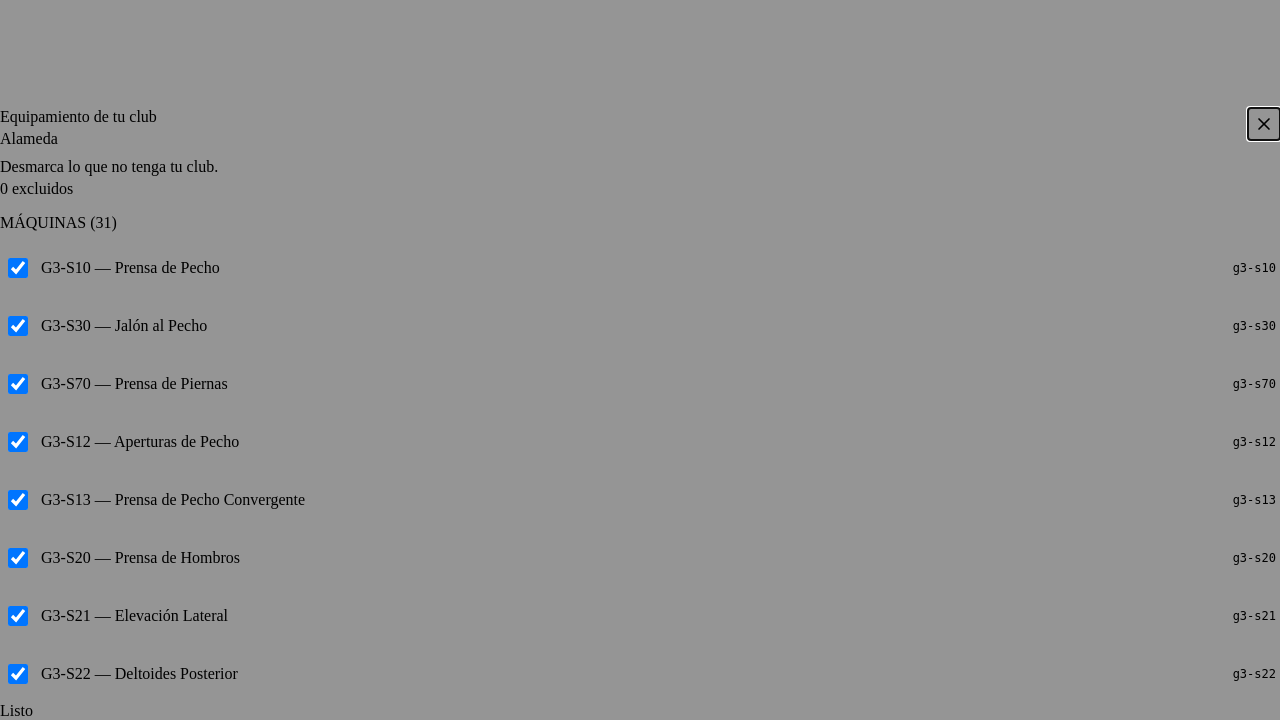
it: write failure never blocks the flow (R7.3, ux-design §2 error row) › shows a non-blocking inline alert rather than a modal error
Click the checkbox labelled "G3-S10 — Prensa de Pecho g3-s10" at (18, 268), box [8,258,28,278]
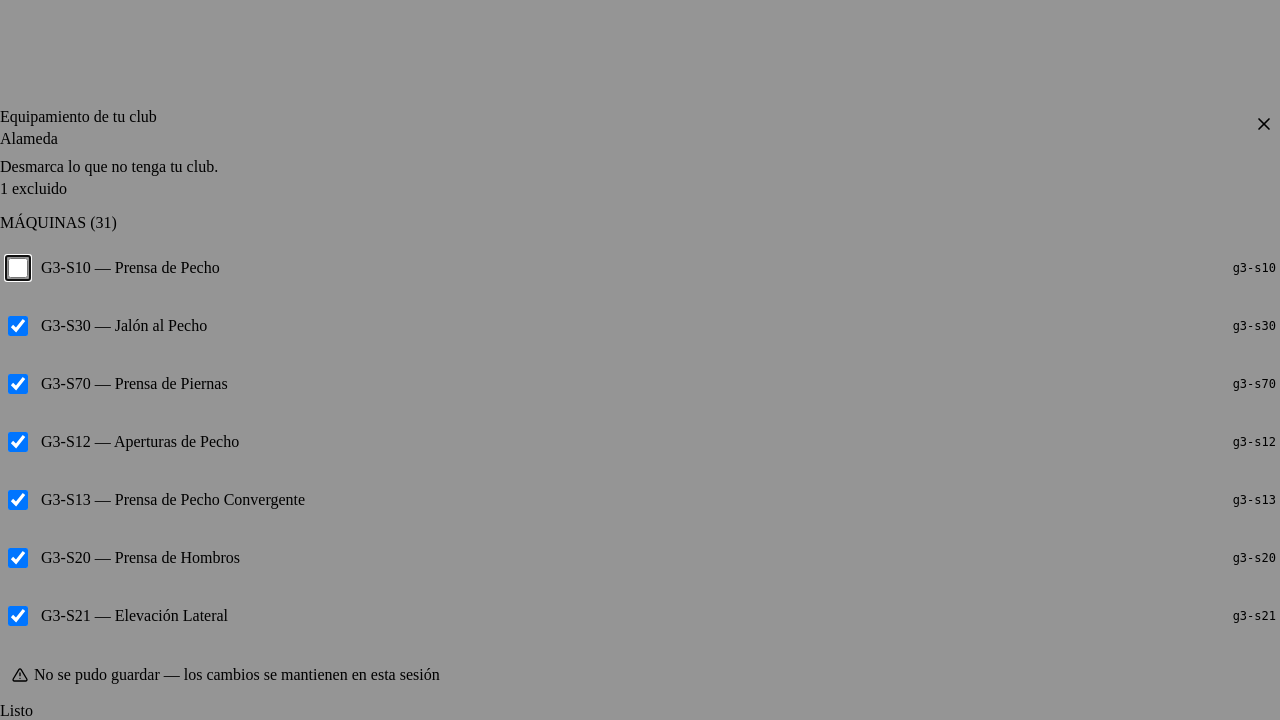
Expected: the message "No se pudo guardar — los cambios se mantienen en esta sesión" is shown, [12,666,440,683]
